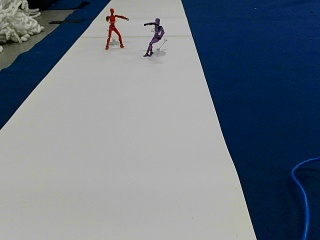pedestrian: (105, 9, 129, 50), (144, 19, 165, 56)
